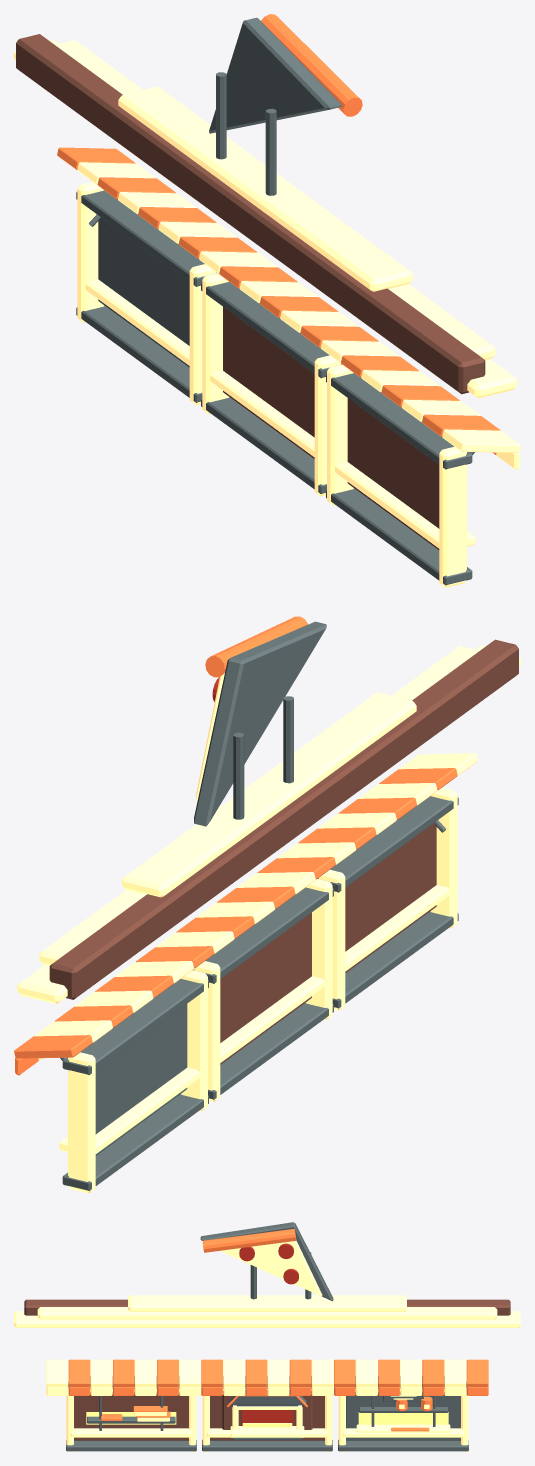
The model's file is rain_city_slice_landmark.glb.
The picture shows the model from 3 angles, top to bottom: view 1: azimuth 30°, elevation 25°; view 2: azimuth 150°, elevation 25°; view 3: azimuth 270°, elevation 25°; orthographic projection. The views are drawn at different scales.
Parts seen in each view (by area): view 1: Slice_SL_CreamEnamel_Batch, Slice_RC_HarbourSteel_Batch, Slice_RC_RainBrick_Batch, Slice_SL_BakedEnamel_Batch; view 2: Slice_SL_CreamEnamel_Batch, Slice_RC_HarbourSteel_Batch, Slice_RC_RainBrick_Batch, Slice_SL_BakedEnamel_Batch; view 3: Slice_SL_CreamEnamel_Batch, Slice_SL_BakedEnamel_Batch, Slice_RC_HarbourSteel_Batch, Slice_RC_RainBrick_Batch, Slice_SL_ShelterGlow_Batch, Slice_SL_PepperEnamel_Batch.
Boxes of the visible parts, x1,y1,x2,y2 form: Slice_SL_CreamEnamel_Batch: (14,39,520,587); Slice_RC_HarbourSteel_Batch: (76,17,474,585); Slice_RC_RainBrick_Batch: (16,34,485,549); Slice_SL_BakedEnamel_Batch: (57,14,500,454); Slice_SL_CreamEnamel_Batch: (17,645,520,1193); Slice_RC_HarbourSteel_Batch: (60,621,458,1190); Slice_RC_RainBrick_Batch: (49,639,518,1064); Slice_SL_BakedEnamel_Batch: (14,616,457,1075); Slice_SL_CreamEnamel_Batch: (14,1240,520,1451); Slice_SL_BakedEnamel_Batch: (68,1228,488,1431); Slice_RC_HarbourSteel_Batch: (66,1222,468,1451); Slice_RC_RainBrick_Batch: (24,1299,510,1440); Slice_SL_ShelterGlow_Batch: (86,1389,448,1427); Slice_SL_PepperEnamel_Batch: (239,1243,298,1425).
Size of the model in its own units: 1.52 by 7.34 by 14.9.
